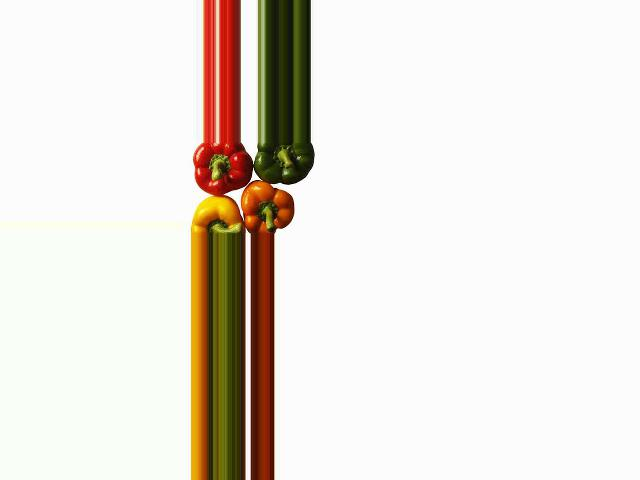bell_pepper: (189, 192, 248, 234)
